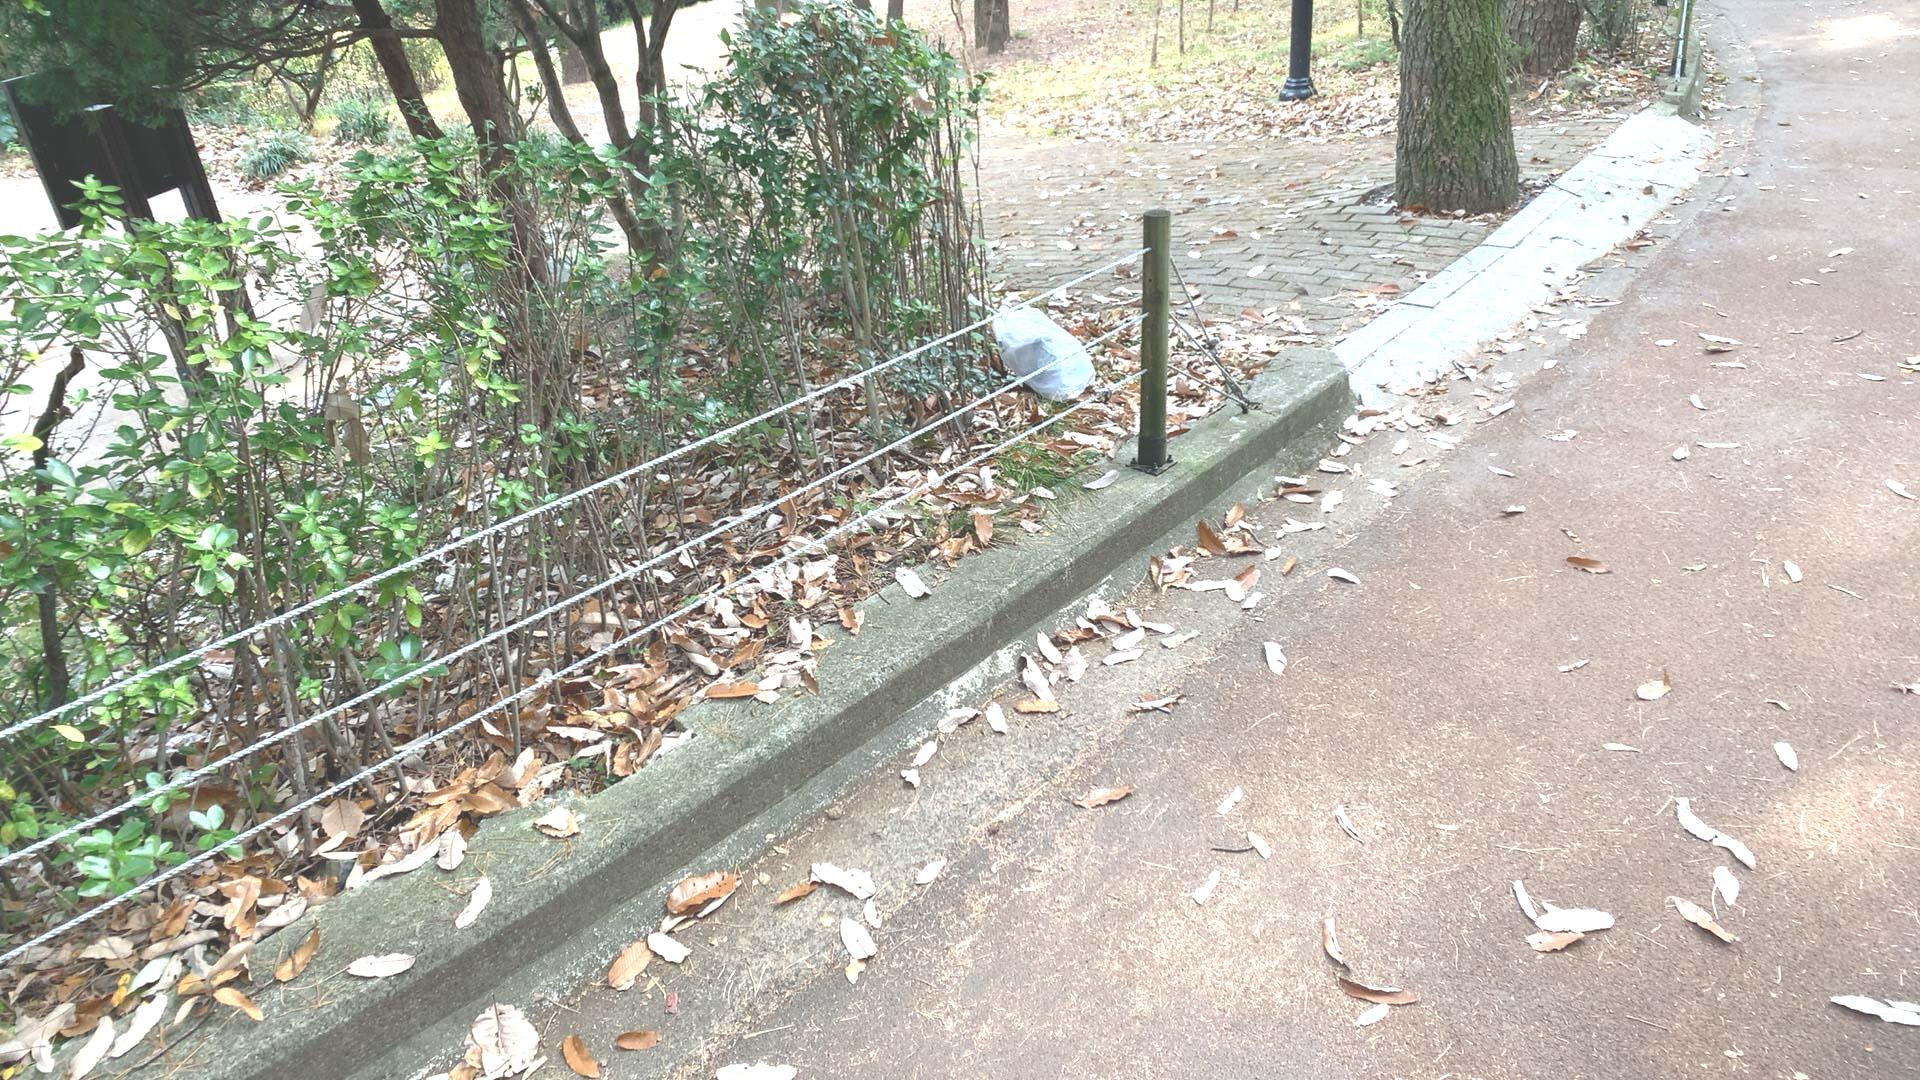white_bag: (967, 287, 1102, 413)
